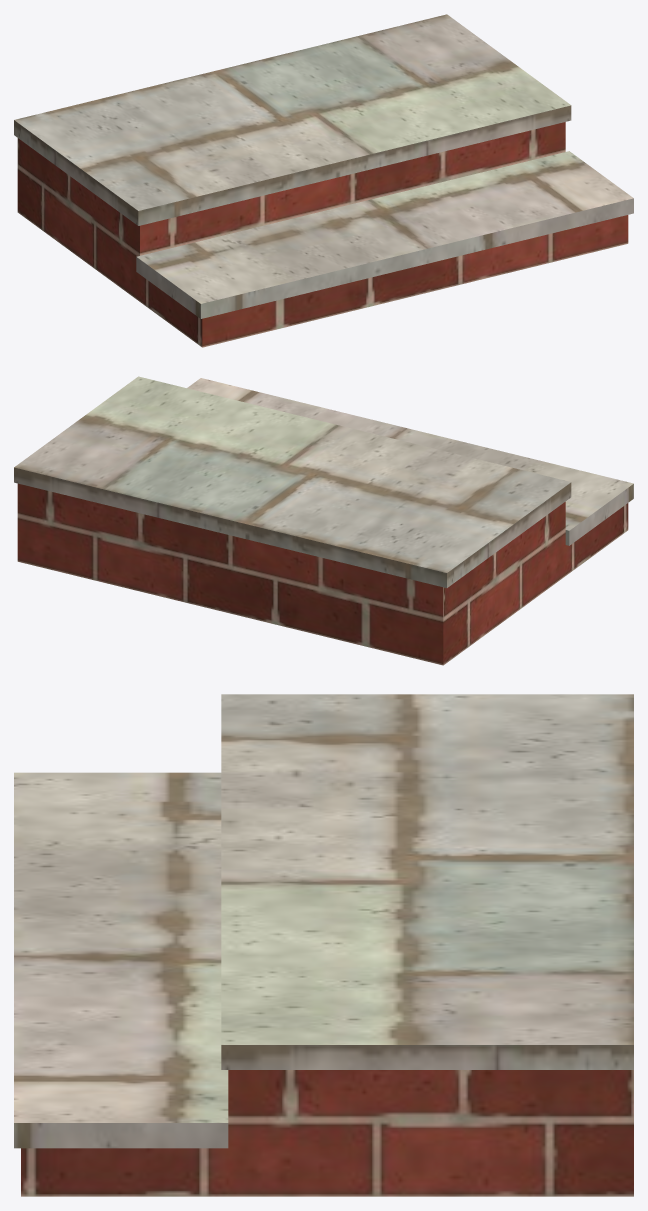
The model's file is garage_steps.glb.
3 renders of one model, top to bottom at view 1: azimuth 30°, elevation 25°; view 2: azimuth 150°, elevation 25°; view 3: azimuth 270°, elevation 25°, orthographic. The views are drawn at different scales.
Parts seen in each view (by area): view 1: garage_steps_cill, garage_steps_brick; view 2: garage_steps_cill, garage_steps_brick; view 3: garage_steps_cill, garage_steps_brick.
Boxes of the visible parts, box(x1,y1,x2,y2) form: garage_steps_cill: box(14, 14, 633, 318); garage_steps_brick: box(17, 122, 628, 347); garage_steps_cill: box(14, 376, 633, 587); garage_steps_brick: box(17, 483, 628, 665); garage_steps_cill: box(14, 694, 633, 1148); garage_steps_brick: box(21, 1070, 633, 1196).
Size of the model in its own units: 1.2 by 0.247 by 0.897.
Materials: 2 (2 with a texture image).
